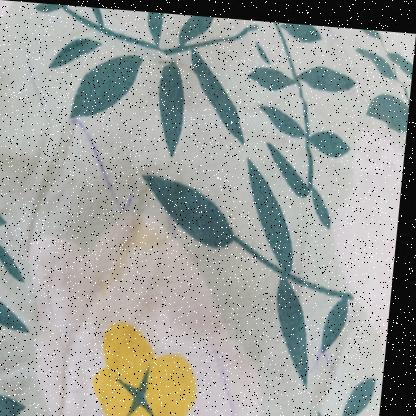spot: (137, 211, 172, 247), (117, 237, 138, 274), (327, 338, 348, 373), (103, 265, 127, 294), (112, 181, 133, 214), (230, 371, 246, 409), (71, 114, 98, 135), (222, 344, 238, 376), (94, 147, 111, 175), (169, 209, 186, 237), (318, 338, 332, 371), (87, 129, 103, 156), (106, 167, 120, 195), (128, 174, 141, 204), (327, 21, 344, 42), (235, 394, 249, 416), (339, 34, 351, 57)
